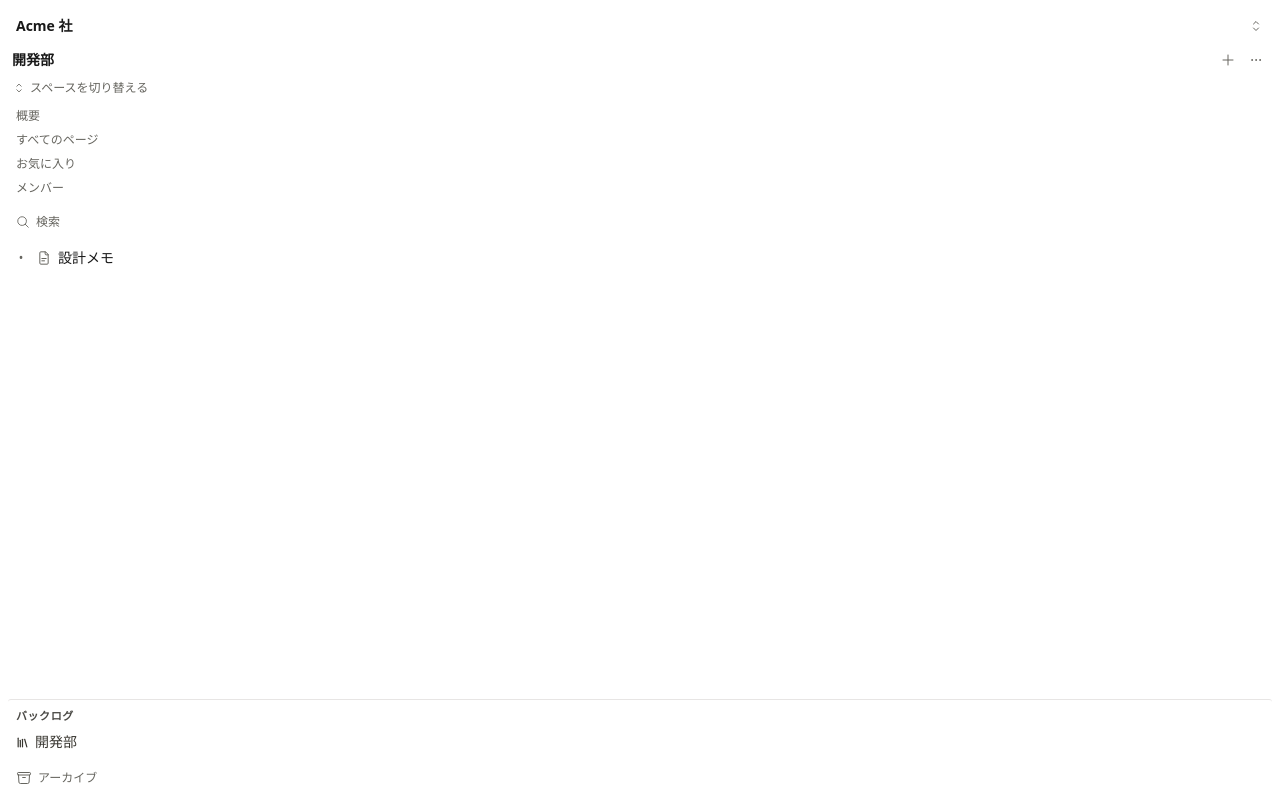
題名で検索（モーダル） › 結果を押すとそのページへ移り、モーダルが閉じる
Expected: the text "設計メモ" is shown, [58,248,114,268]
Click the button "検索".
click(23, 222)  # box [8,208,1272,236]
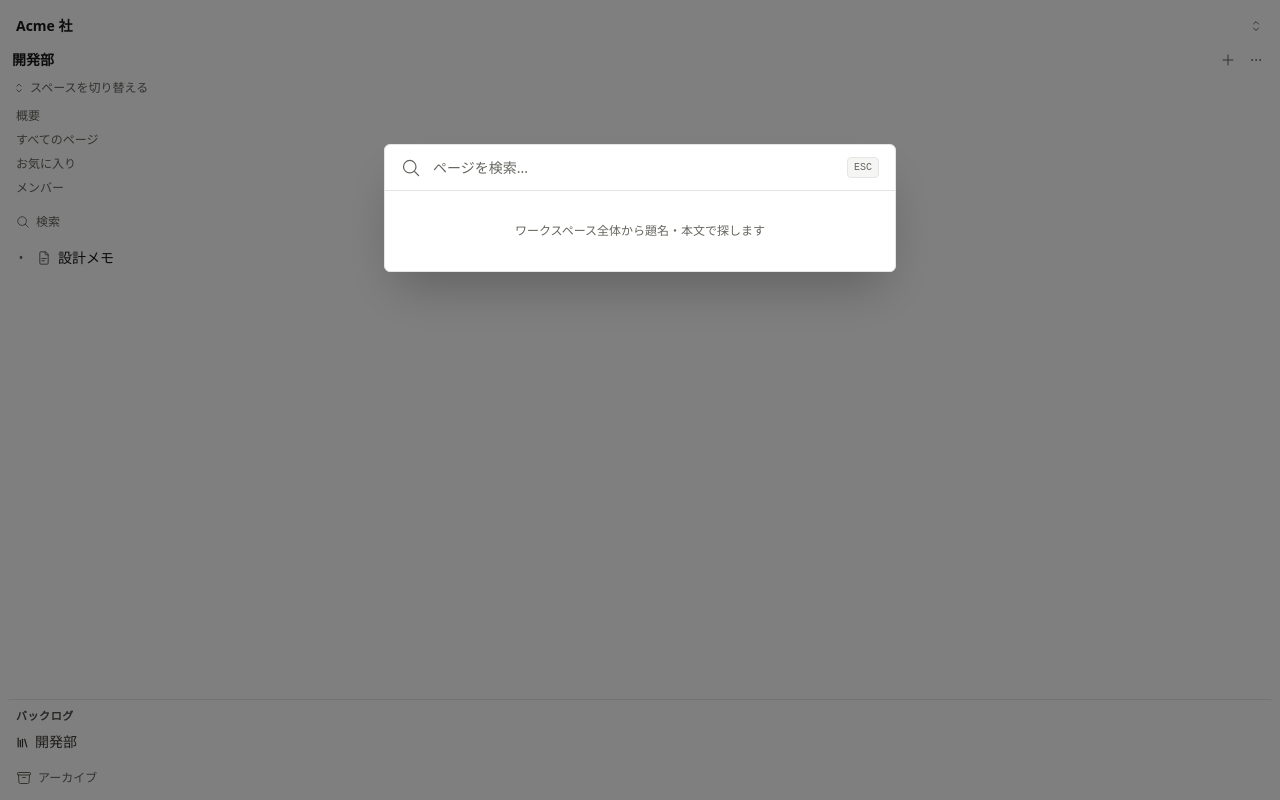
Type "ヒット" into the dropdown named "ページを題名・本文で検索".
click(634, 168); type("ヒット")  # box [433,158,835,178]
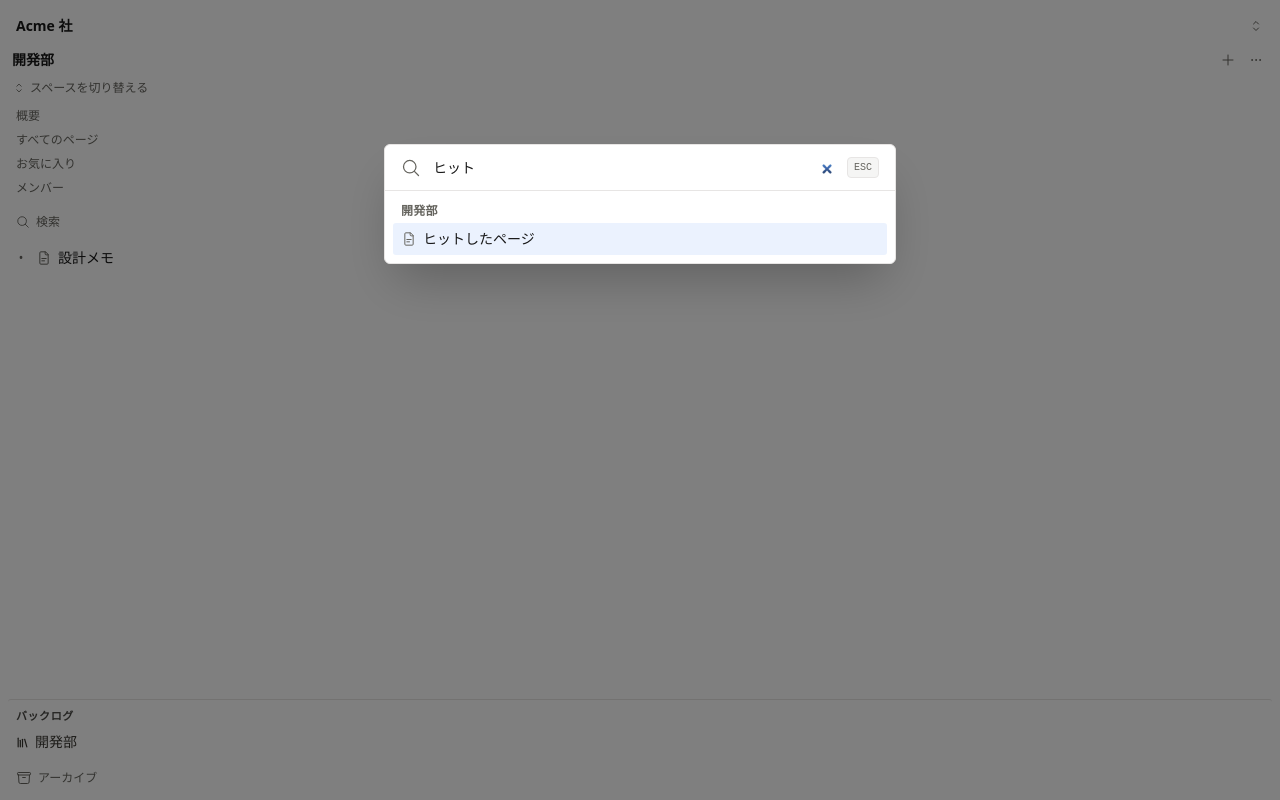
Expected: the text "ヒットしたページ" is shown, [423,229,535,248]
Click the option "ヒットしたページ".
click(479, 238)  # box [393,223,887,255]
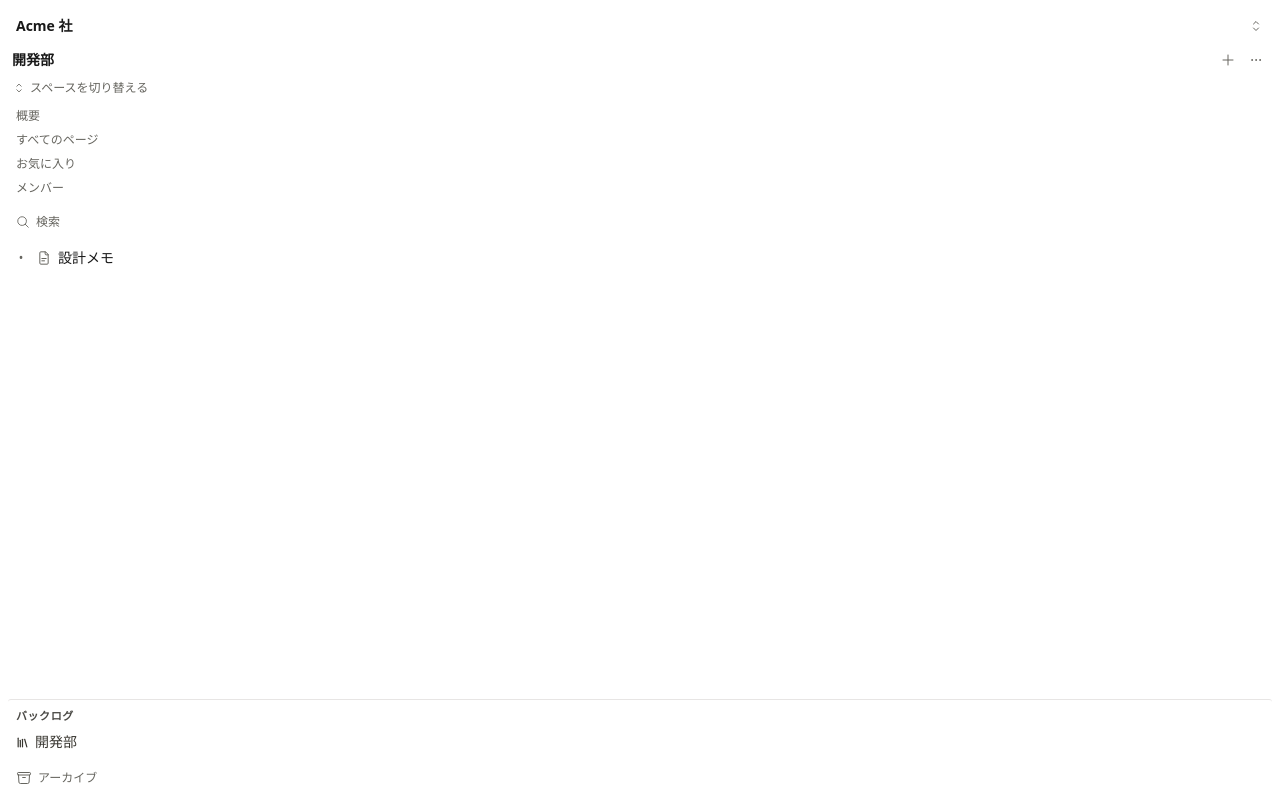
Expected: the dialog "ページを検索" is gone
